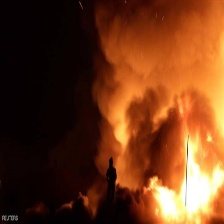fire: (160, 149, 213, 221)
smoke: (94, 1, 224, 162)
